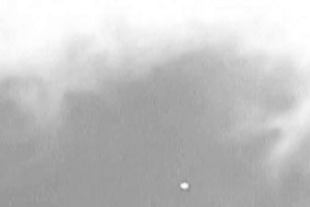Target: (180, 182, 188, 188)
